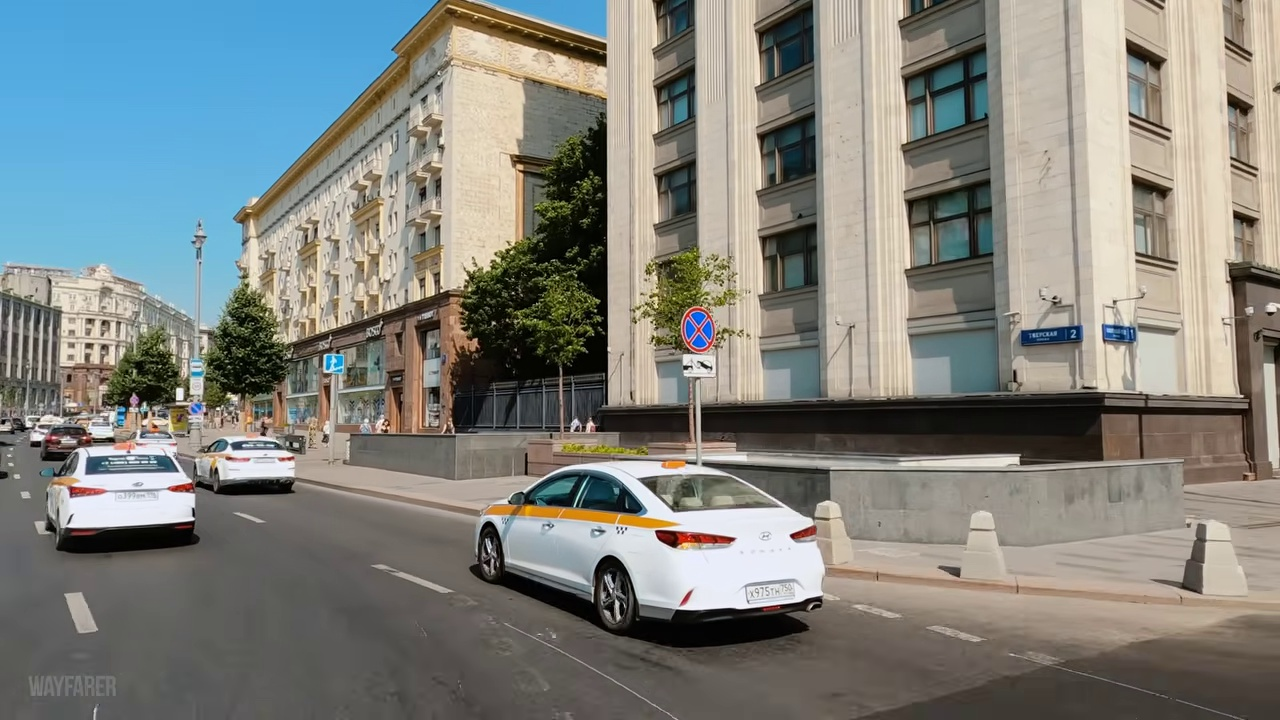acesa: (66, 595, 96, 633)
